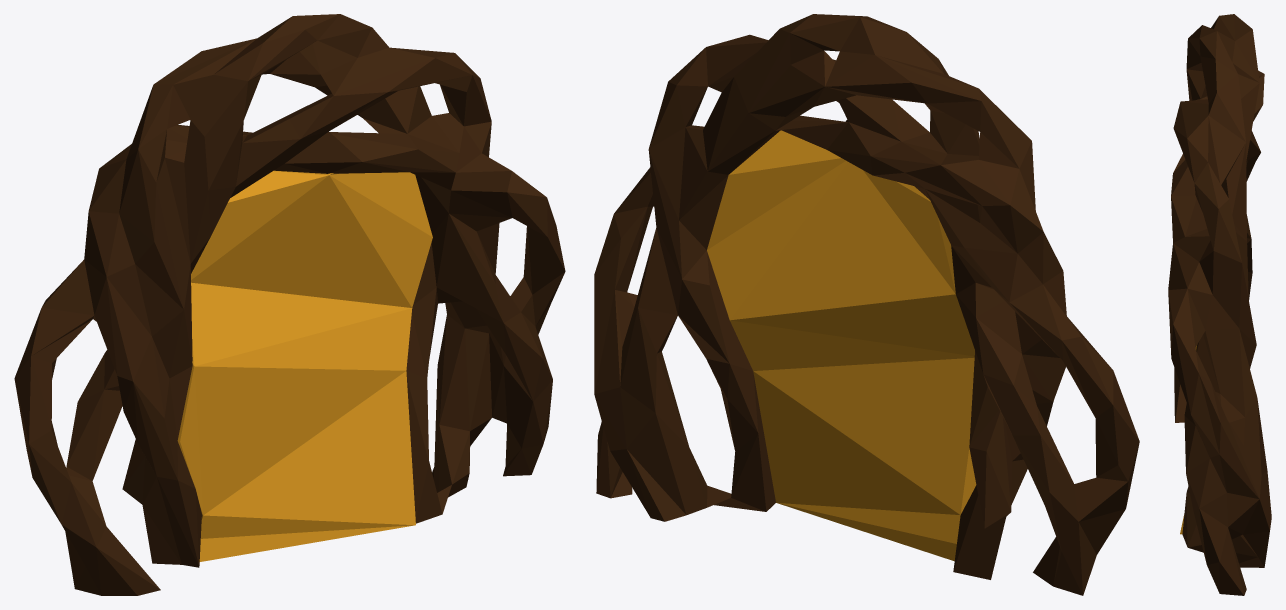
The model's file is Wooden_portal.glb.
3 renders of one model, left to right at view 1: azimuth 30°, elevation 25°; view 2: azimuth 150°, elevation 25°; view 3: azimuth 270°, elevation 25°, orthographic. The views are drawn at different scales.
Visible parts, largest first — view 1: Wooden_portal; view 2: Wooden_portal; view 3: Wooden_portal.
Part boxes in pixels (<box>): Wooden_portal: <box>14,14,565,595</box>; Wooden_portal: <box>594,14,1139,595</box>; Wooden_portal: <box>1168,14,1271,595</box>.
Size of the model in its own units: 2.11 by 1.97 by 0.4026.
